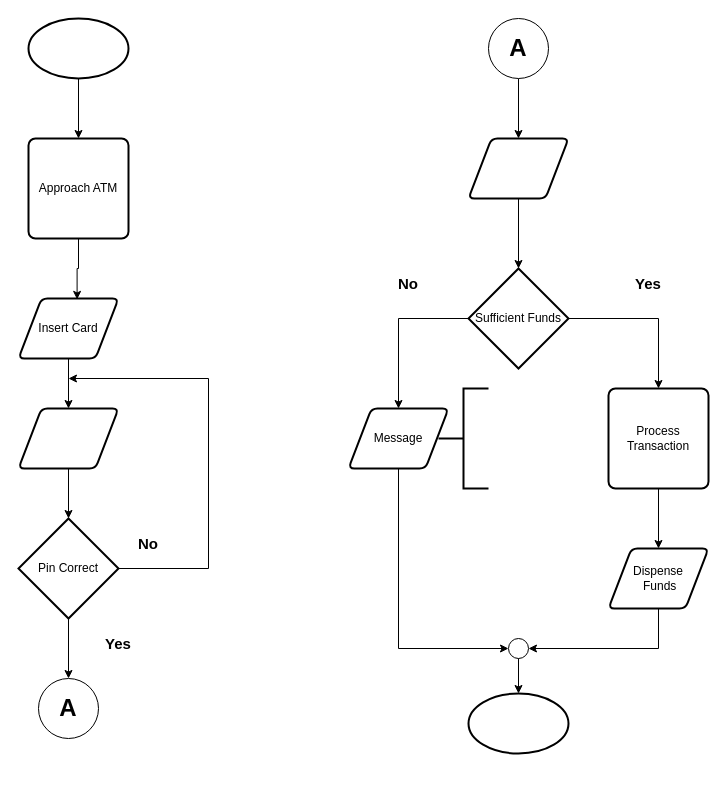
Image size: 726x800. Some labels were removed from this diagram. Each missing label, with the box of its shape:
End: (467, 692, 569, 754)
Enter Amount: (467, 137, 569, 199)
Enter PIN: (17, 407, 119, 469)
Insufficient Funds for request: (437, 387, 489, 489)
Start: (27, 17, 129, 79)
